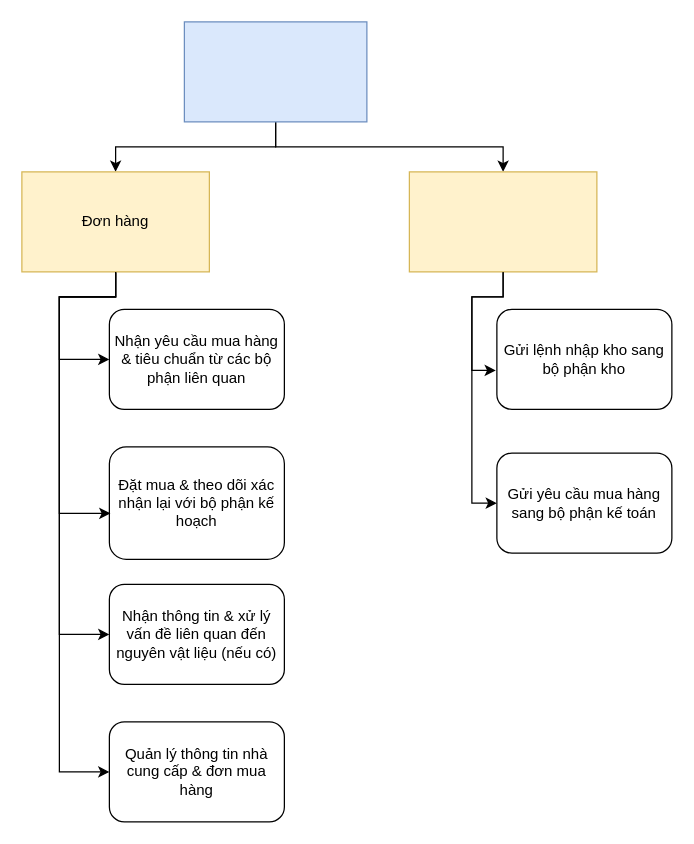
The diagram is 694 pixels wide and 844 high, and some of its shapes have lost their labels. Here are the shapes that lost their labels. From the top down, the centre of each, then its label:
At (x=275, y=71): "Nhân viên mua hàng".
At (x=502, y=221): "Nguyên vật liệu".
